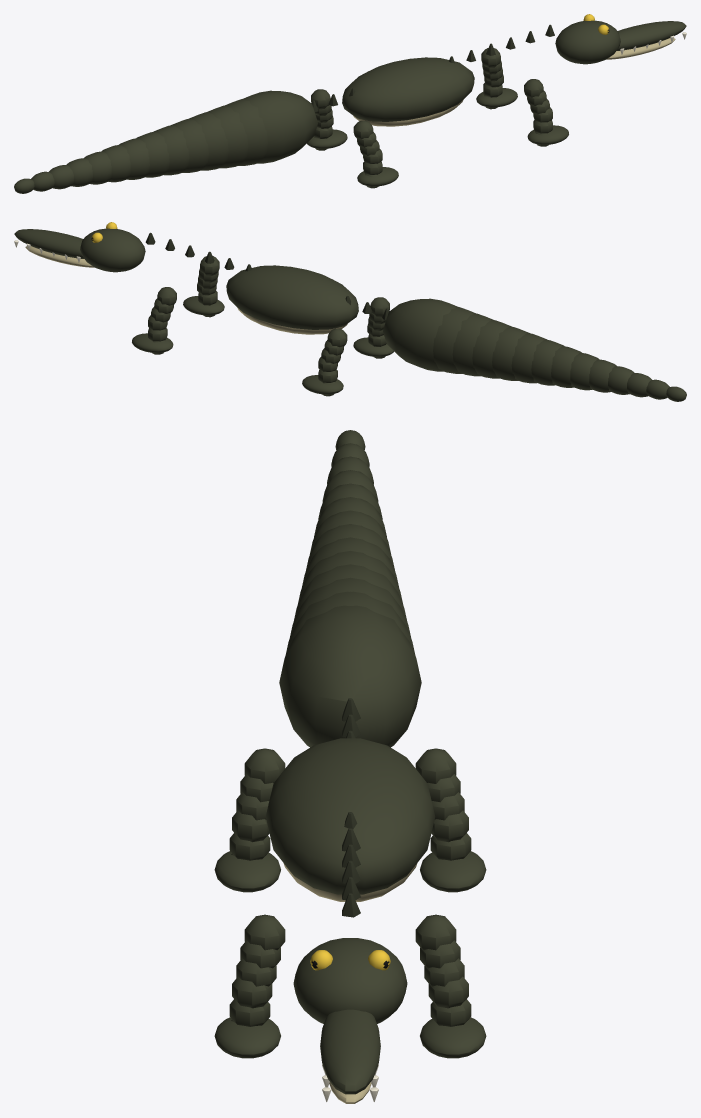
Rendered from deinosuchus.glb.
3 views of the same model, one above another, from view 1: azimuth 30°, elevation 25°; view 2: azimuth 150°, elevation 25°; view 3: azimuth 270°, elevation 25° (orthographic). The views are drawn at different scales.
Visible parts, largest first — view 1: deinosuchus; view 2: deinosuchus; view 3: deinosuchus.
Part boxes in pixels (left/top/right/bottom): deinosuchus: left=14, top=14, right=686, bottom=193; deinosuchus: left=14, top=222, right=686, bottom=401; deinosuchus: left=214, top=430, right=486, bottom=1103.
Bounding box in the file's own units: 6.52 × 0.875 × 1.14.
